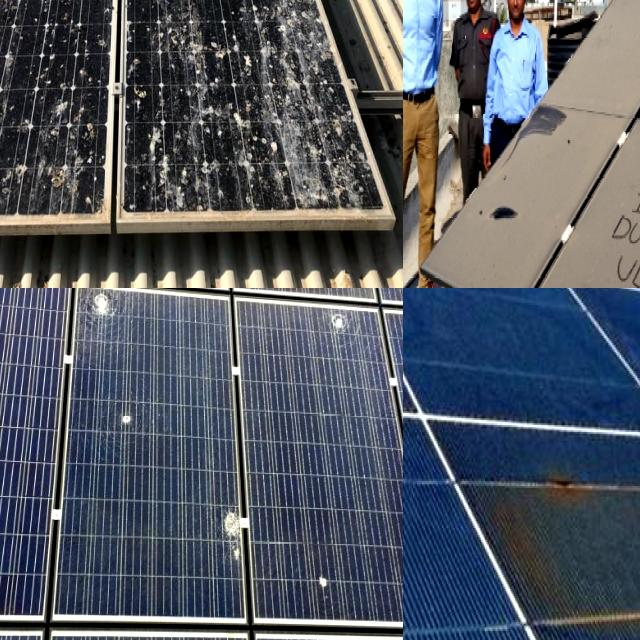bird: (128, 17, 238, 110), (268, 114, 344, 208), (163, 112, 246, 190), (252, 4, 309, 103), (32, 0, 97, 74), (0, 100, 44, 209), (26, 96, 70, 196), (0, 0, 36, 105), (0, 0, 105, 32), (200, 0, 269, 45), (0, 0, 49, 44), (0, 0, 28, 63), (187, 0, 234, 31), (144, 0, 194, 20), (100, 0, 116, 56)
dust: (482, 180, 582, 288), (592, 161, 640, 288), (602, 0, 640, 116), (522, 114, 600, 170)
hotspot: (208, 486, 258, 599), (299, 538, 362, 602), (106, 386, 150, 445), (163, 288, 218, 329), (324, 306, 369, 354), (80, 288, 120, 334), (300, 288, 340, 317)
shadow: (462, 442, 640, 640)
